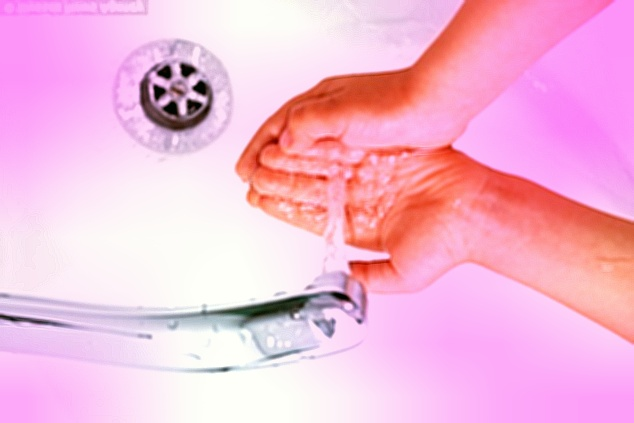washing hand: (141, 10, 524, 399)
